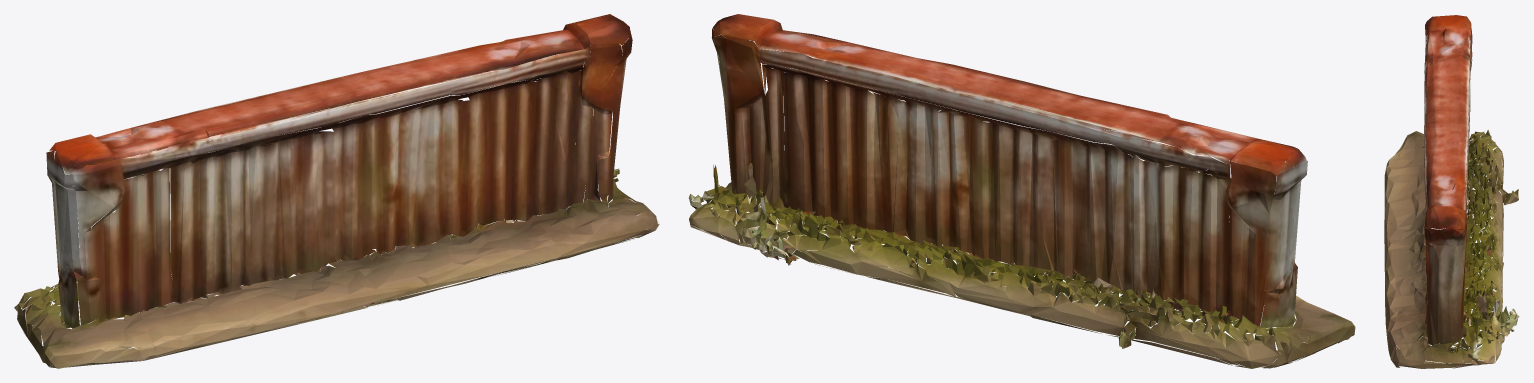
Rendered from concrete-jersey-barrier.glb.
The picture shows the model from 3 angles, left to right: view 1: azimuth 30°, elevation 25°; view 2: azimuth 150°, elevation 25°; view 3: azimuth 270°, elevation 25°; orthographic projection. The views are drawn at different scales.
Visible parts, largest first — view 1: tmpo3e0idqb.ply; view 2: tmpo3e0idqb.ply; view 3: tmpo3e0idqb.ply.
Boxes of the visible parts, x1,y1,x2,y2 form: tmpo3e0idqb.ply: (14,14,659,368); tmpo3e0idqb.ply: (688,14,1355,368); tmpo3e0idqb.ply: (1384,15,1519,368).
Bounding box in the file's own units: 4 × 1.2 × 1.
1 material, 1 textured.
